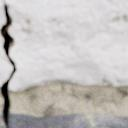broken_brick: (5, 0, 127, 90), (0, 112, 127, 127), (0, 37, 12, 85), (0, 0, 4, 27)
crack: (0, 0, 15, 125)
